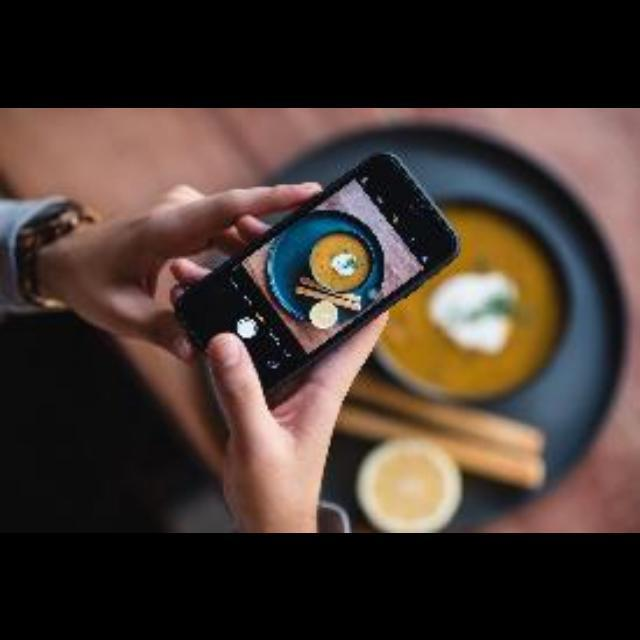PhoneUse: (145, 134, 475, 402)
